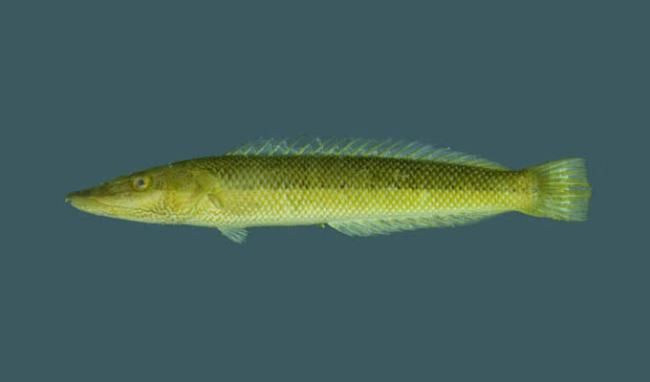fish: (65, 138, 591, 245)
